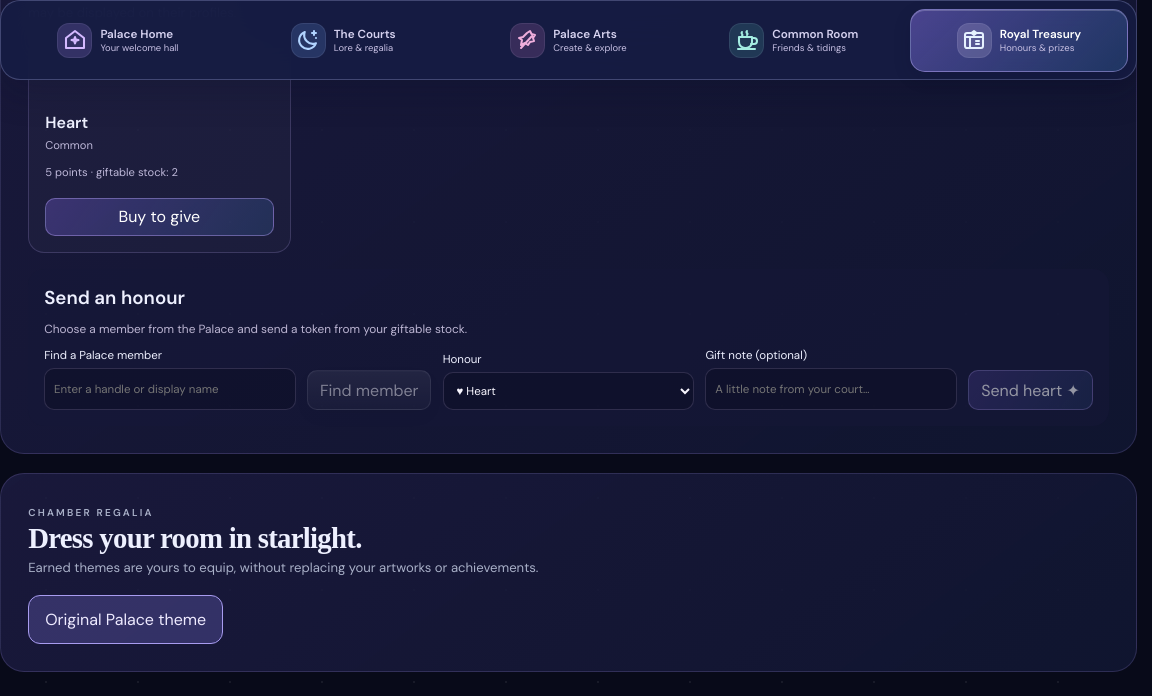
Scenario: Grand Palace gifts and room navigation › explains an empty member search without enabling gifting
The width and height of the screenshot is (1152, 696).
(page scrolled)
Expected: the button "Find member" is shown, x1=307 y1=370 x2=431 y2=410
Step 1. Type "Unknown person" into the field labelled "Find a Palace member" → x=170, y=389, box x1=44 y1=368 x2=296 y2=410
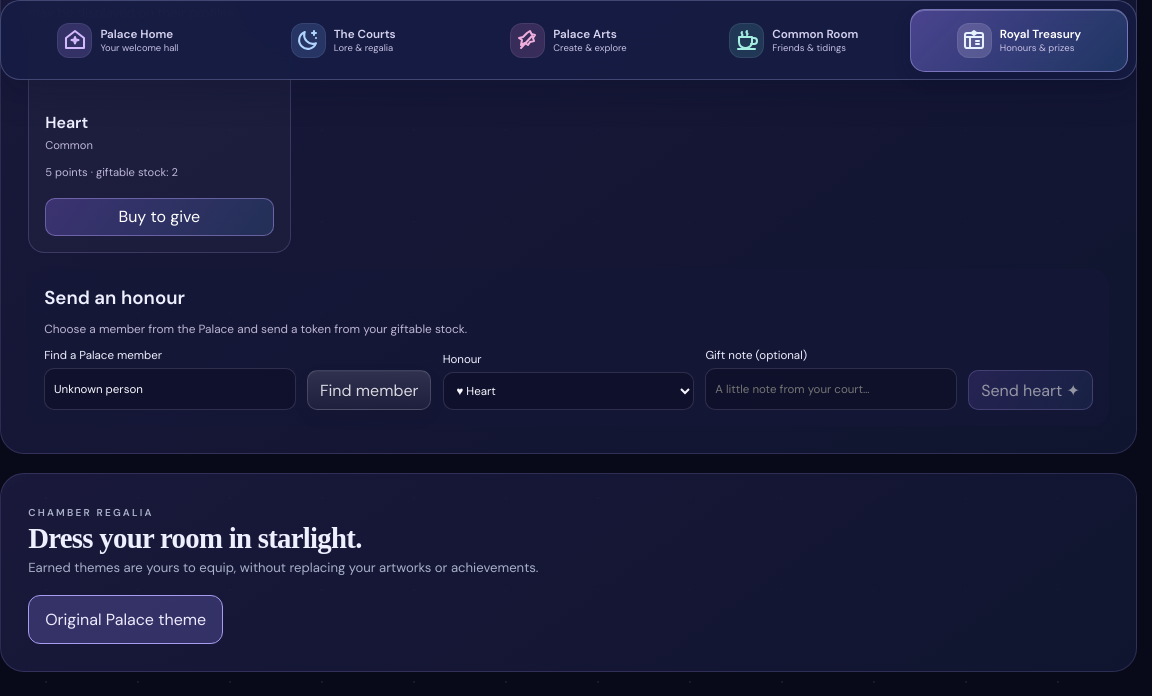
Step 2. Click the button "Find member" → x=369, y=390, box x1=307 y1=370 x2=431 y2=410
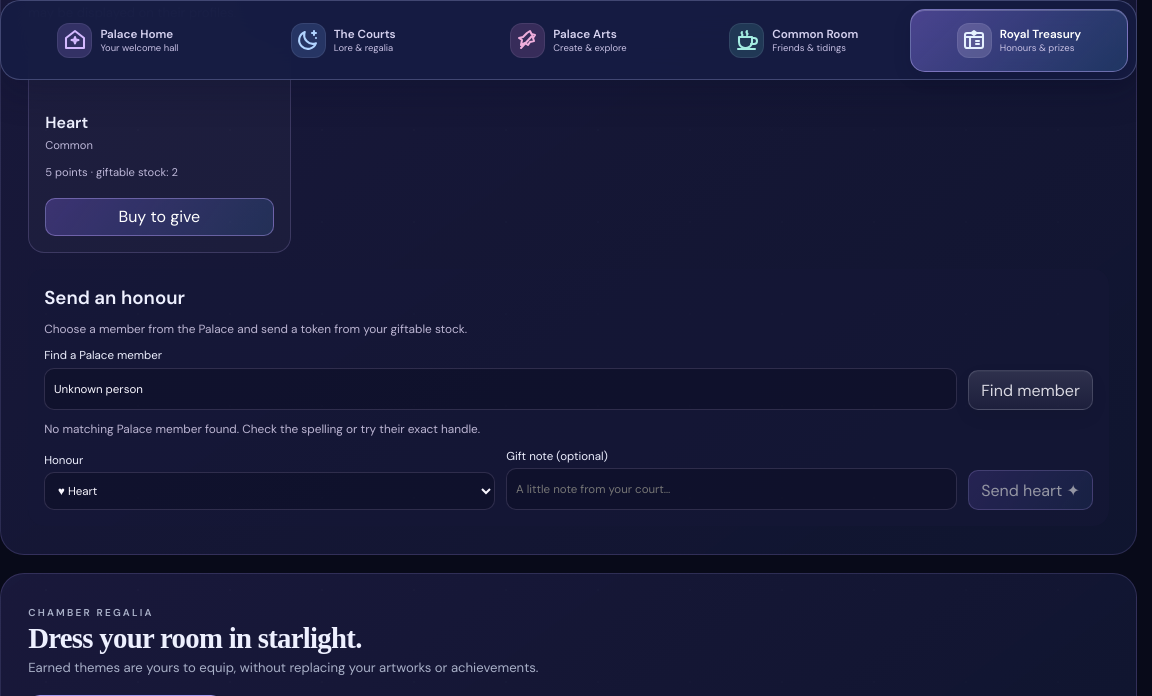
Expected: the button "Send heart ✦" is disabled, x1=968 y1=470 x2=1093 y2=510
Expected: the text "No matching Palace member found. Check the spelling or try their exact handle." is shown, x1=44 y1=421 x2=480 y2=437
